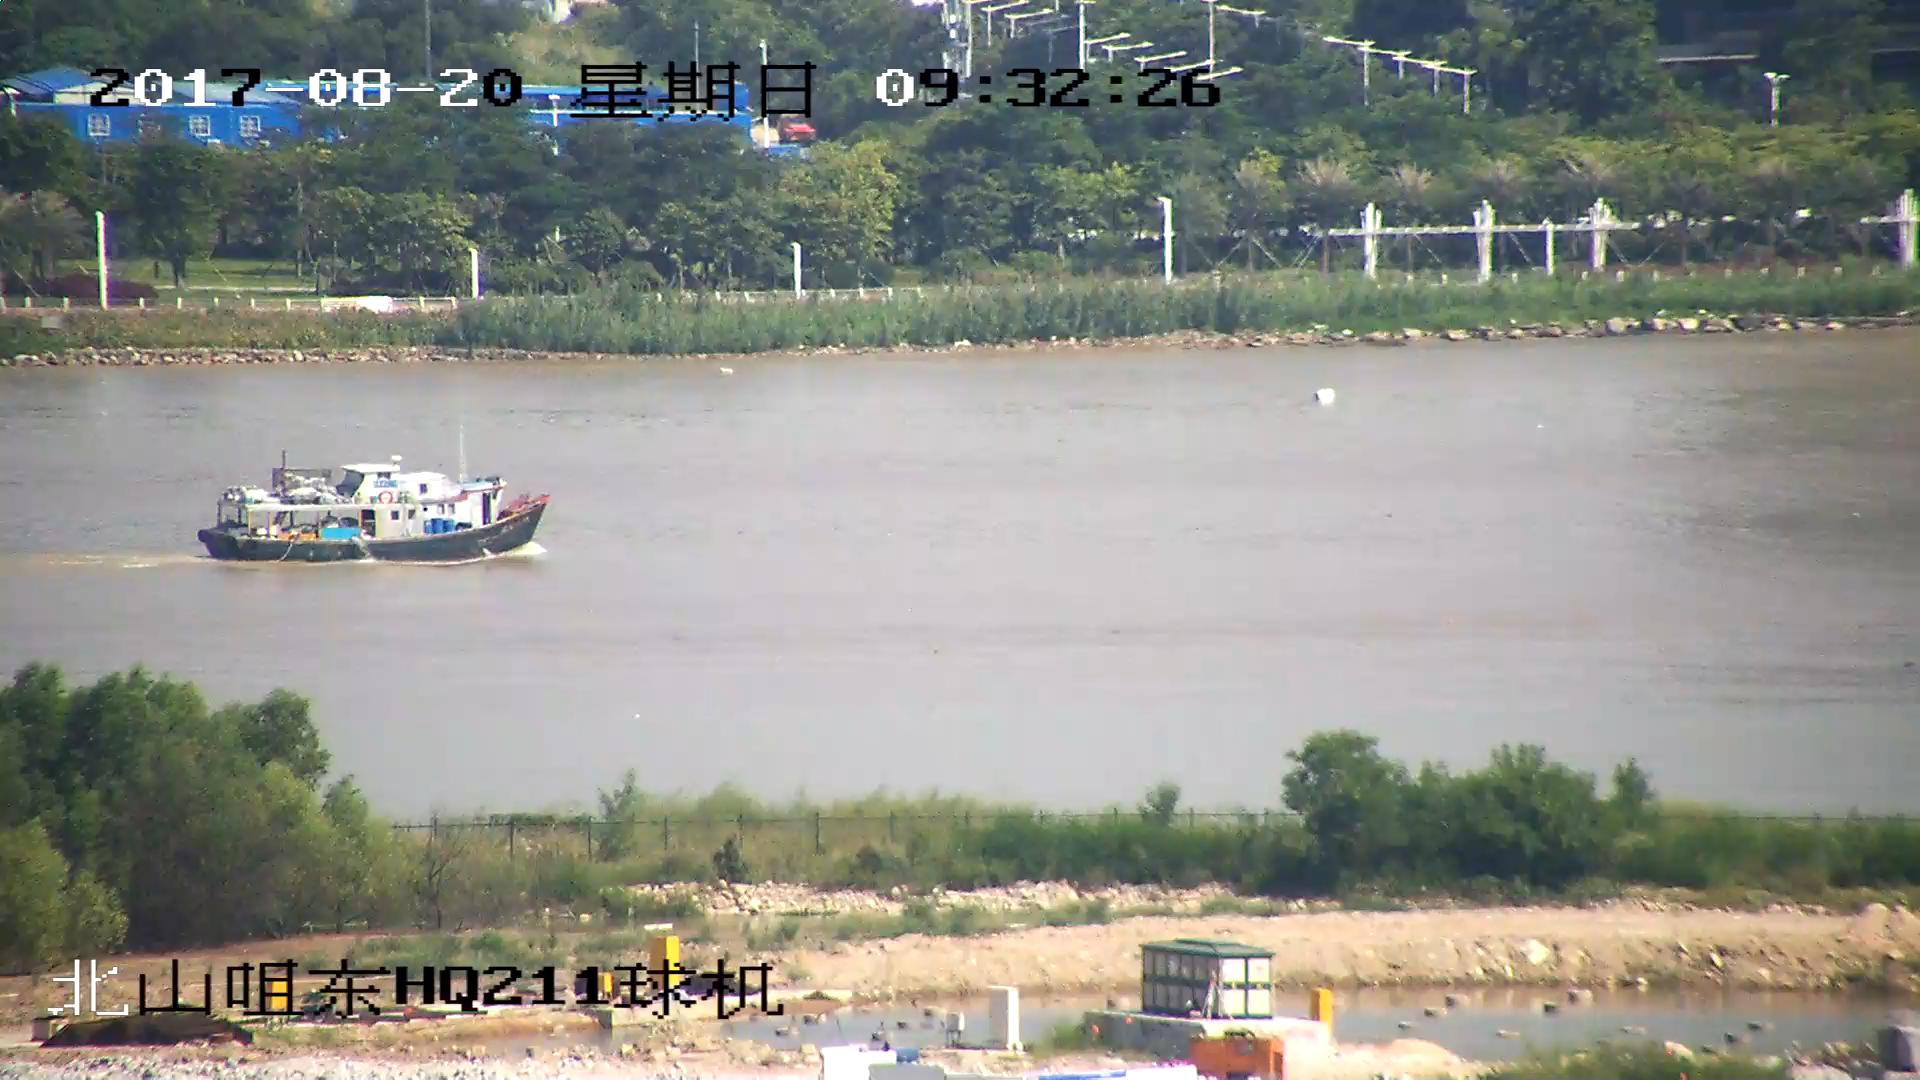fishing boat: (201, 451, 551, 564)
